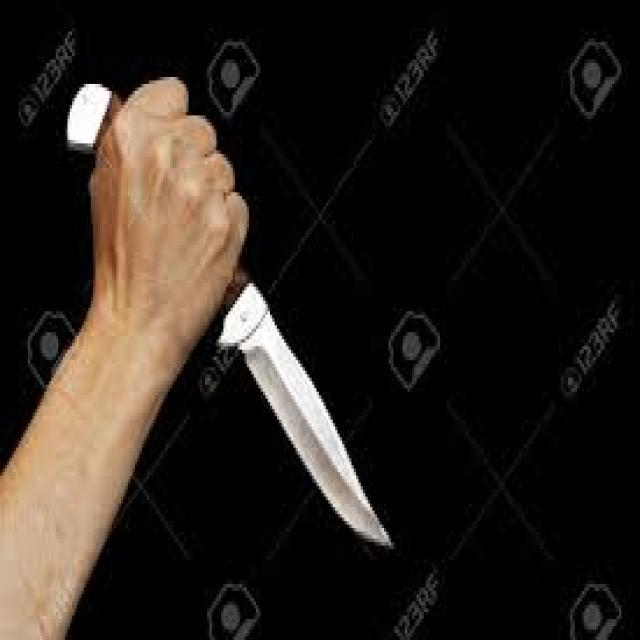faca: (58, 70, 403, 560)
